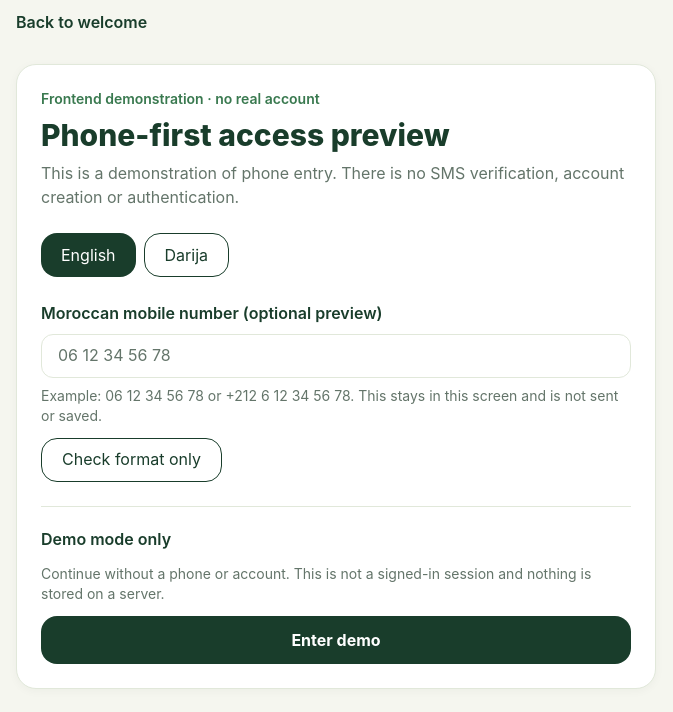
Test: M1 access preview › shows a user-friendly format error for invalid phone
In the field labelled "Moroccan mobile number (optional preview)": (336, 356) top-left (41, 334), bottom-right (631, 378), type "123"
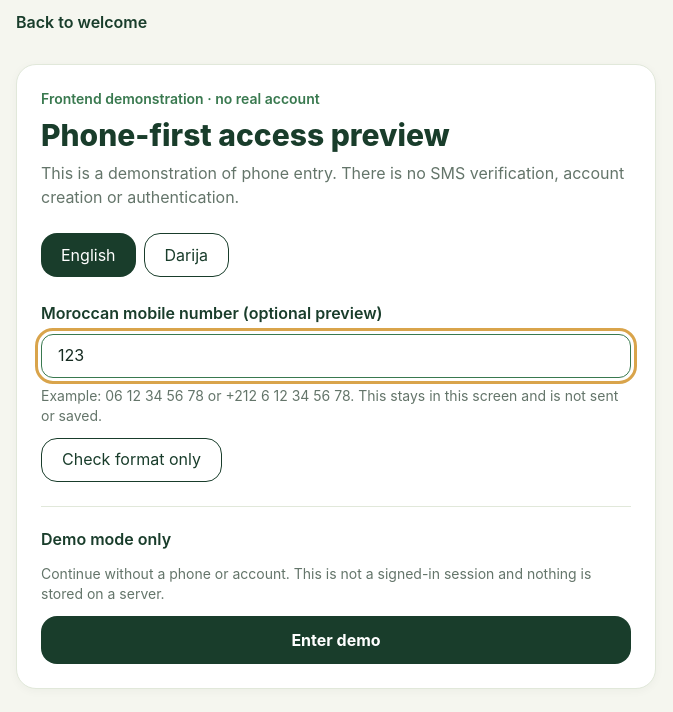
Click the button "Check format only": (132, 460) top-left (41, 438), bottom-right (222, 482)
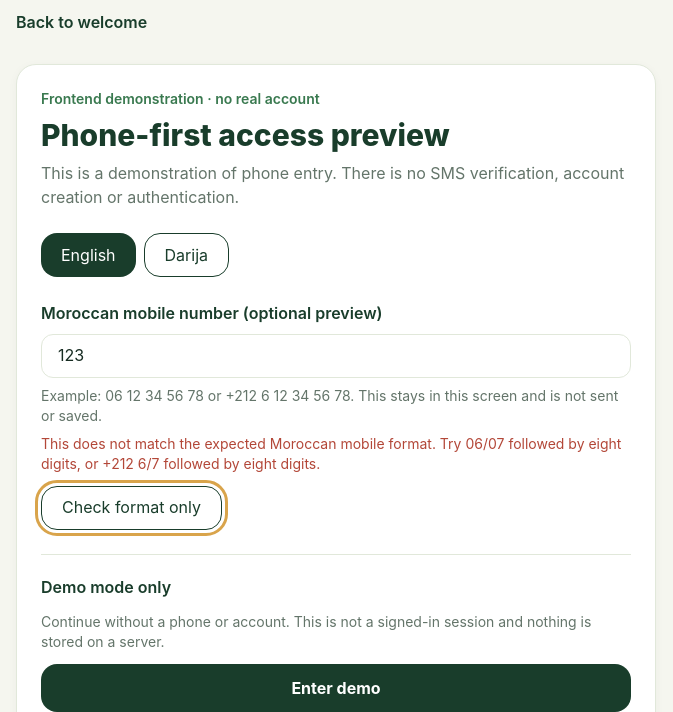
Expected: the message shows "does not match", top-left (41, 435), bottom-right (622, 472)
